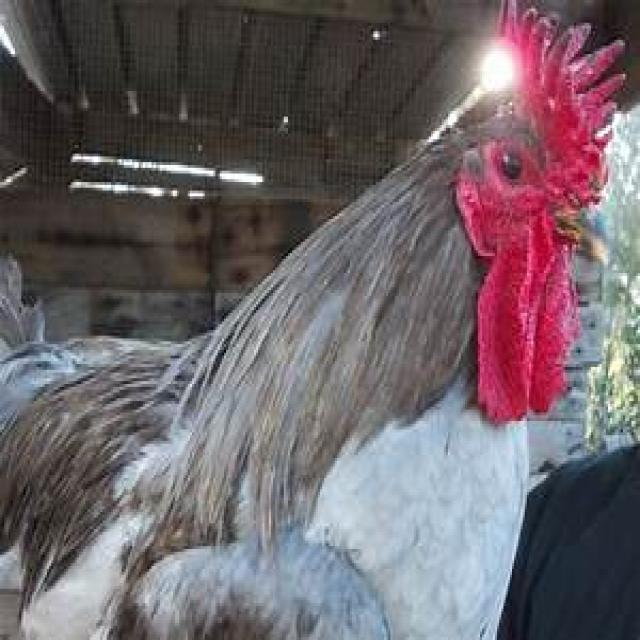animal: (0, 0, 628, 640)
